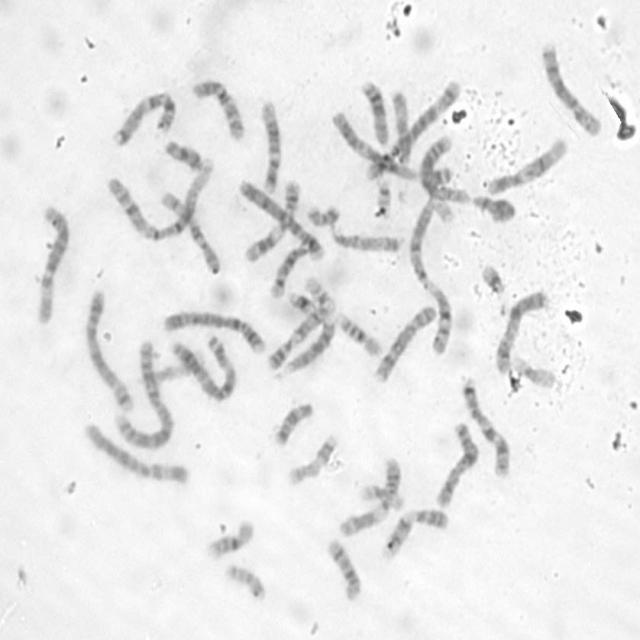A1: (104, 155, 214, 242), (405, 173, 456, 358)
A2: (419, 133, 517, 222), (112, 338, 175, 450)
A3: (329, 106, 454, 186), (168, 332, 238, 403)
B4: (236, 175, 326, 262), (160, 308, 266, 355)
B5: (363, 76, 463, 182), (82, 285, 136, 414)
C10: (158, 187, 222, 276), (190, 75, 247, 143)
C11: (335, 451, 404, 538), (241, 175, 303, 266)
C12: (484, 134, 570, 197), (257, 97, 283, 193)
C6: (78, 419, 192, 486), (33, 202, 72, 325)
C7: (457, 374, 512, 479), (112, 88, 177, 148)
C8: (538, 39, 602, 138), (370, 300, 438, 384)
C9: (263, 306, 331, 374), (378, 504, 451, 561)
D13: (277, 314, 337, 376), (358, 76, 390, 148)
D14: (321, 536, 366, 604), (267, 240, 310, 300)
D15: (327, 220, 403, 254), (389, 87, 412, 167)
E16: (334, 310, 383, 360), (204, 516, 257, 562)
E17: (137, 349, 207, 394), (286, 430, 340, 488)
E18: (272, 400, 315, 448), (161, 136, 204, 172)
F19: (510, 353, 558, 390), (358, 478, 406, 512)
F20: (222, 562, 268, 602), (304, 202, 340, 228)
G21: (478, 259, 508, 297), (286, 288, 317, 316)
G22: (302, 273, 336, 314), (371, 178, 395, 221)
X: (492, 286, 552, 377), (432, 420, 480, 509)
